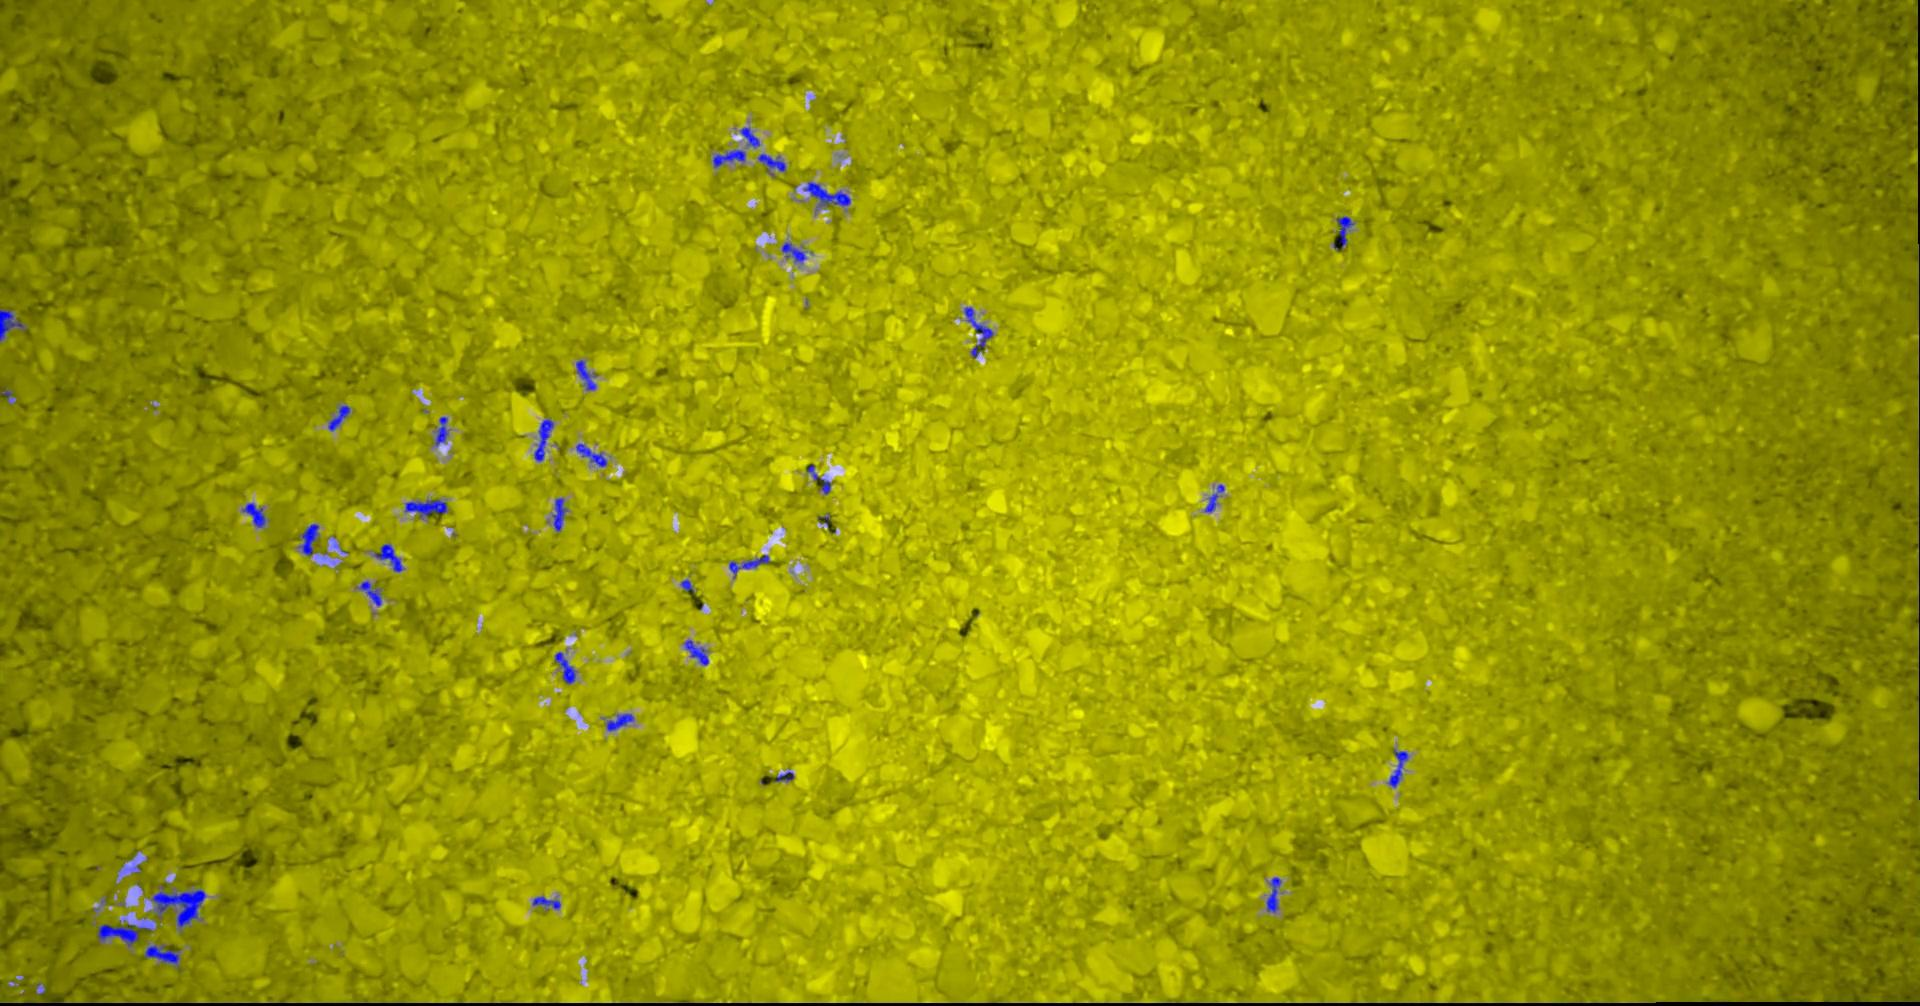ant: (151, 884, 204, 927), (964, 306, 993, 356), (97, 923, 151, 946), (803, 180, 850, 206), (728, 554, 770, 577), (533, 418, 552, 461), (375, 542, 403, 572), (143, 945, 179, 967), (0, 307, 23, 340), (1388, 749, 1407, 788), (404, 499, 447, 516), (806, 464, 830, 493), (575, 443, 606, 466), (554, 652, 575, 683), (1333, 216, 1352, 249), (298, 523, 317, 555), (575, 359, 596, 389), (712, 149, 745, 166), (684, 640, 709, 664), (328, 405, 350, 431), (243, 502, 265, 527), (358, 580, 381, 605), (1204, 484, 1224, 511), (758, 152, 785, 171), (552, 498, 568, 531), (1266, 876, 1280, 912), (606, 713, 632, 730), (781, 243, 805, 260), (740, 127, 759, 147), (434, 417, 447, 445), (532, 895, 560, 908), (775, 771, 792, 781)
